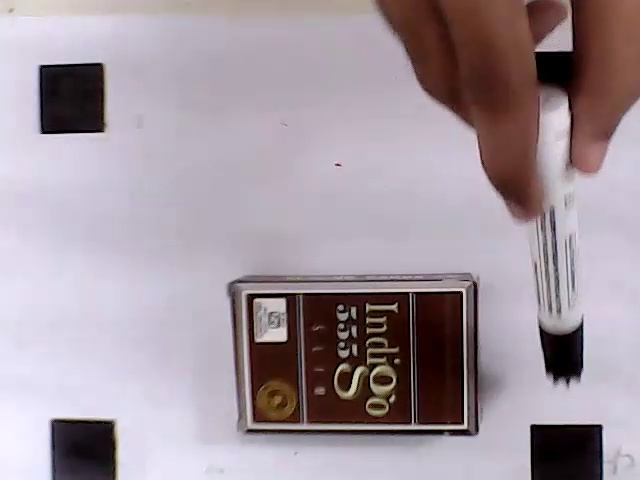BEX: (244, 289, 465, 426)
